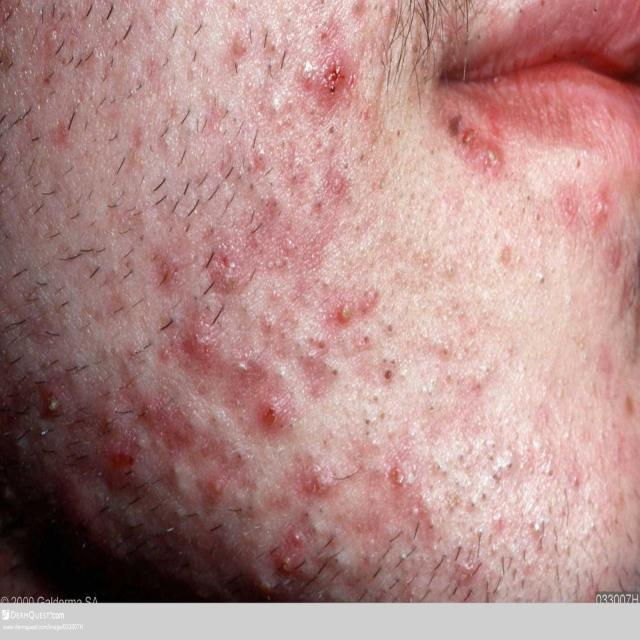blackhead: (410, 43, 420, 54), (326, 125, 334, 136), (331, 368, 339, 377), (386, 324, 394, 333), (384, 370, 392, 379), (574, 158, 582, 167), (538, 276, 546, 285), (358, 153, 367, 161), (322, 437, 329, 447), (535, 213, 542, 223), (525, 194, 532, 204), (440, 470, 448, 478), (517, 6, 525, 14), (448, 48, 456, 56), (379, 412, 386, 421), (445, 374, 452, 383), (521, 207, 528, 216), (343, 161, 350, 170), (319, 340, 325, 350), (362, 336, 370, 343), (442, 348, 449, 356), (475, 34, 483, 41), (396, 129, 402, 138), (258, 153, 264, 162), (372, 394, 378, 402), (364, 418, 370, 426), (278, 422, 284, 430), (289, 422, 295, 430), (475, 383, 481, 391), (508, 462, 514, 470), (492, 232, 498, 240), (333, 556, 339, 564), (247, 504, 253, 512), (458, 454, 464, 461), (488, 454, 494, 461), (481, 493, 487, 500), (548, 469, 554, 476), (462, 39, 468, 46), (485, 366, 490, 374), (492, 442, 497, 450), (390, 359, 396, 365), (436, 464, 442, 470), (470, 501, 476, 507), (428, 524, 434, 530), (498, 209, 502, 218), (285, 17, 291, 23), (232, 117, 238, 123), (492, 474, 497, 481), (382, 358, 387, 364), (364, 431, 370, 436), (211, 417, 216, 423), (429, 406, 434, 412), (320, 0, 326, 5), (455, 479, 459, 486), (427, 391, 432, 396), (432, 380, 437, 385), (314, 24, 319, 29)
